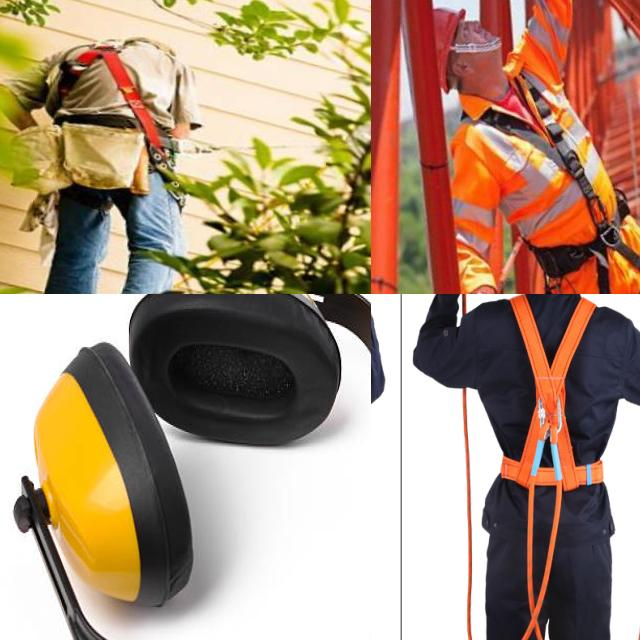Ear-protection: (0, 294, 371, 640)
Harness: (482, 77, 640, 294), (495, 294, 609, 565), (58, 46, 163, 152)
